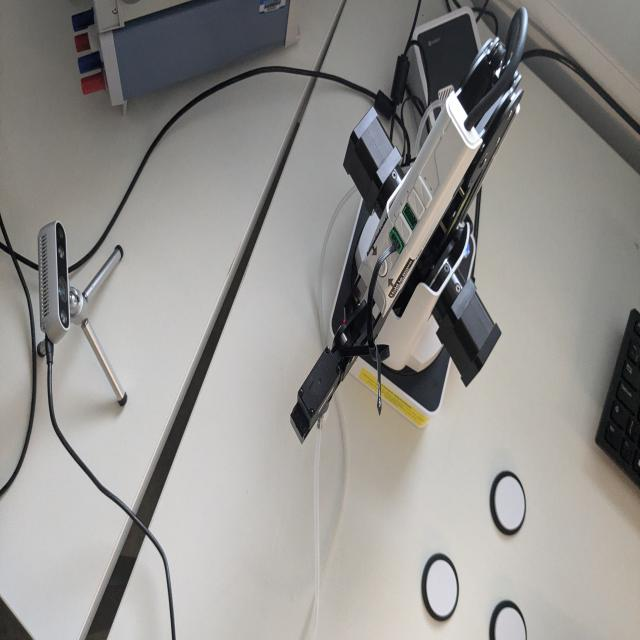Robot-end-effector-HF8z: (286, 342, 342, 450)
